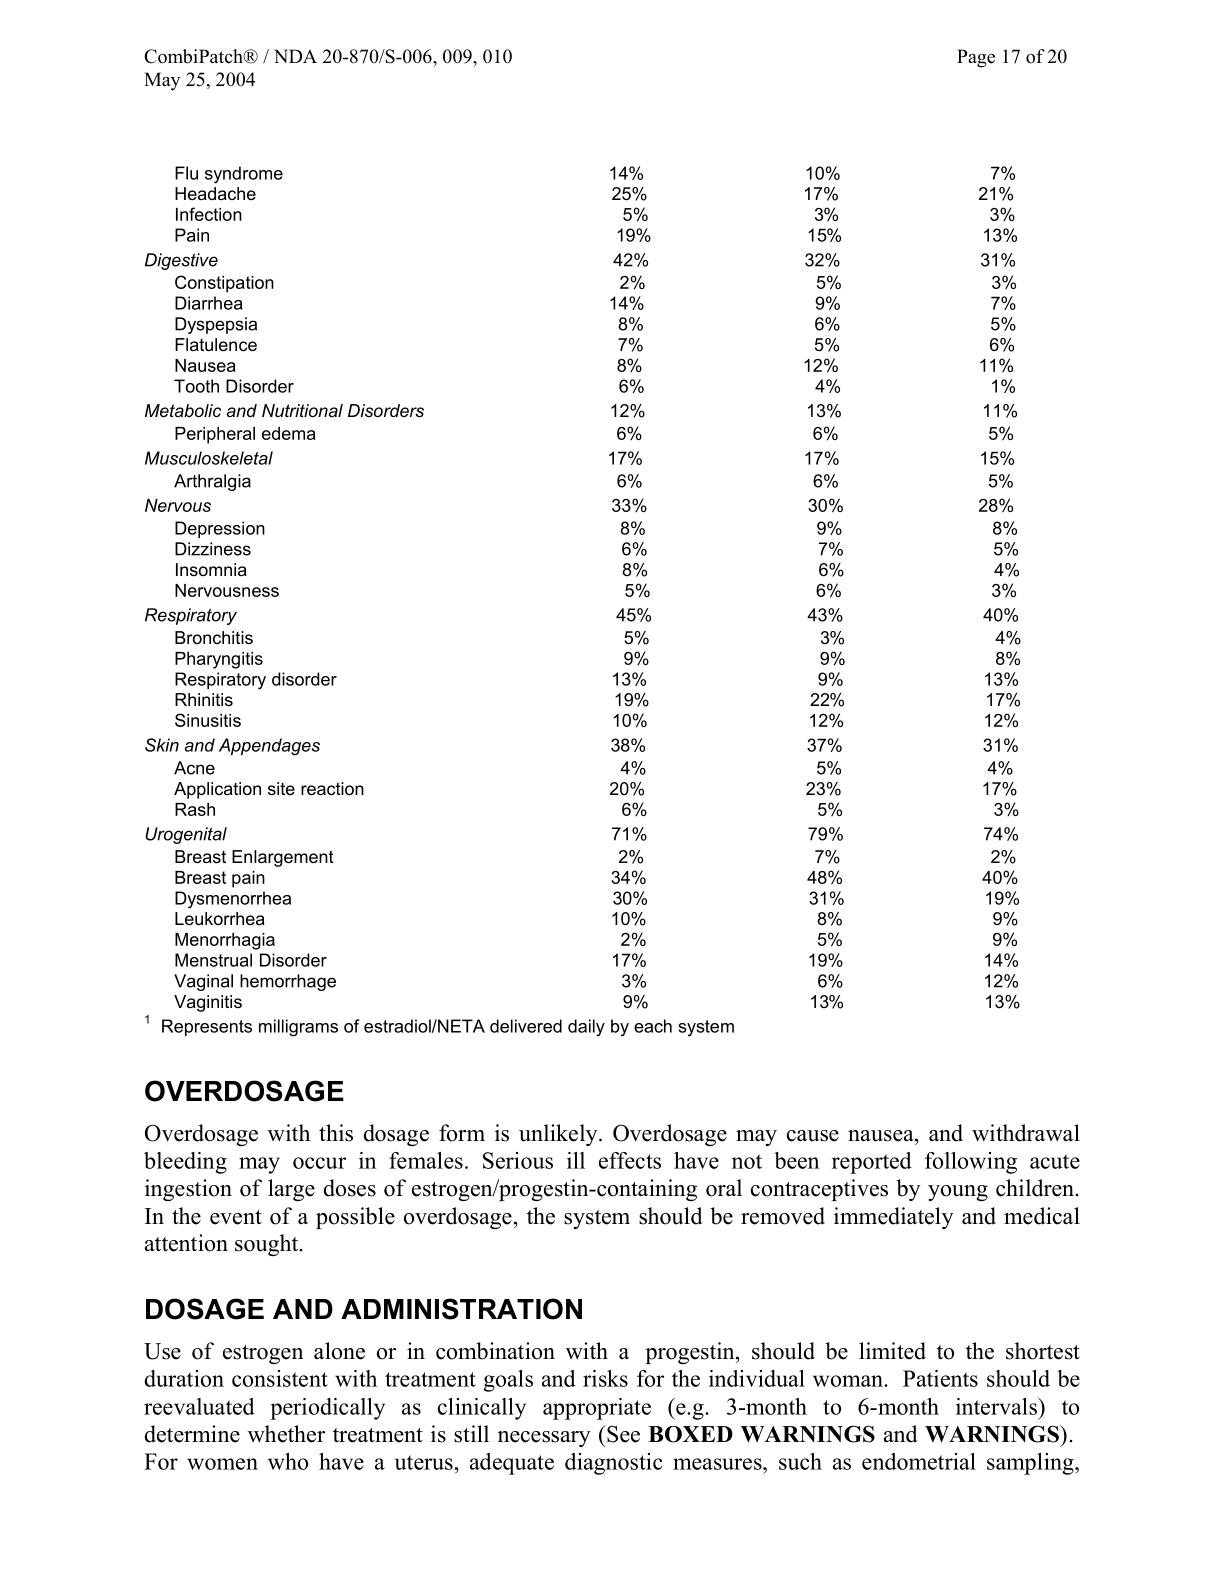nolines: (144, 159, 1023, 1013)
